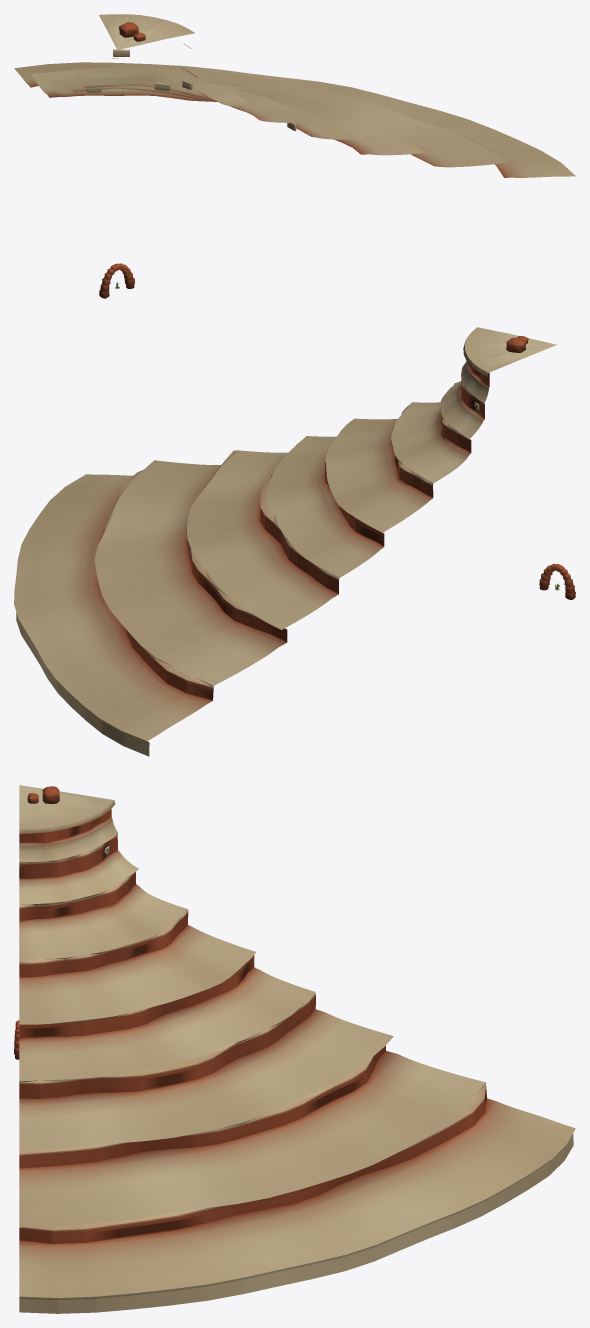
The model's file is canyon-s5-D11gbiyH.glb.
3 views of the same model, one above another, from view 1: azimuth 30°, elevation 25°; view 2: azimuth 150°, elevation 25°; view 3: azimuth 270°, elevation 25° (orthographic). The views are drawn at different scales.
Parts seen in each view (by area): view 1: sc_landmark_0, sc_arch; view 2: sc_landmark_0, sc_arch; view 3: sc_landmark_0.
Part boxes in pixels (x1=…): sc_landmark_0: x1=14, y1=14, x2=575, y2=177; sc_arch: x1=99, y1=263, x2=134, y2=298; sc_landmark_0: x1=14, y1=327, x2=556, y2=756; sc_arch: x1=539, y1=563, x2=575, y2=599; sc_landmark_0: x1=19, y1=785, x2=575, y2=1313.
Size of the model in its own units: 447 by 235 by 411.
